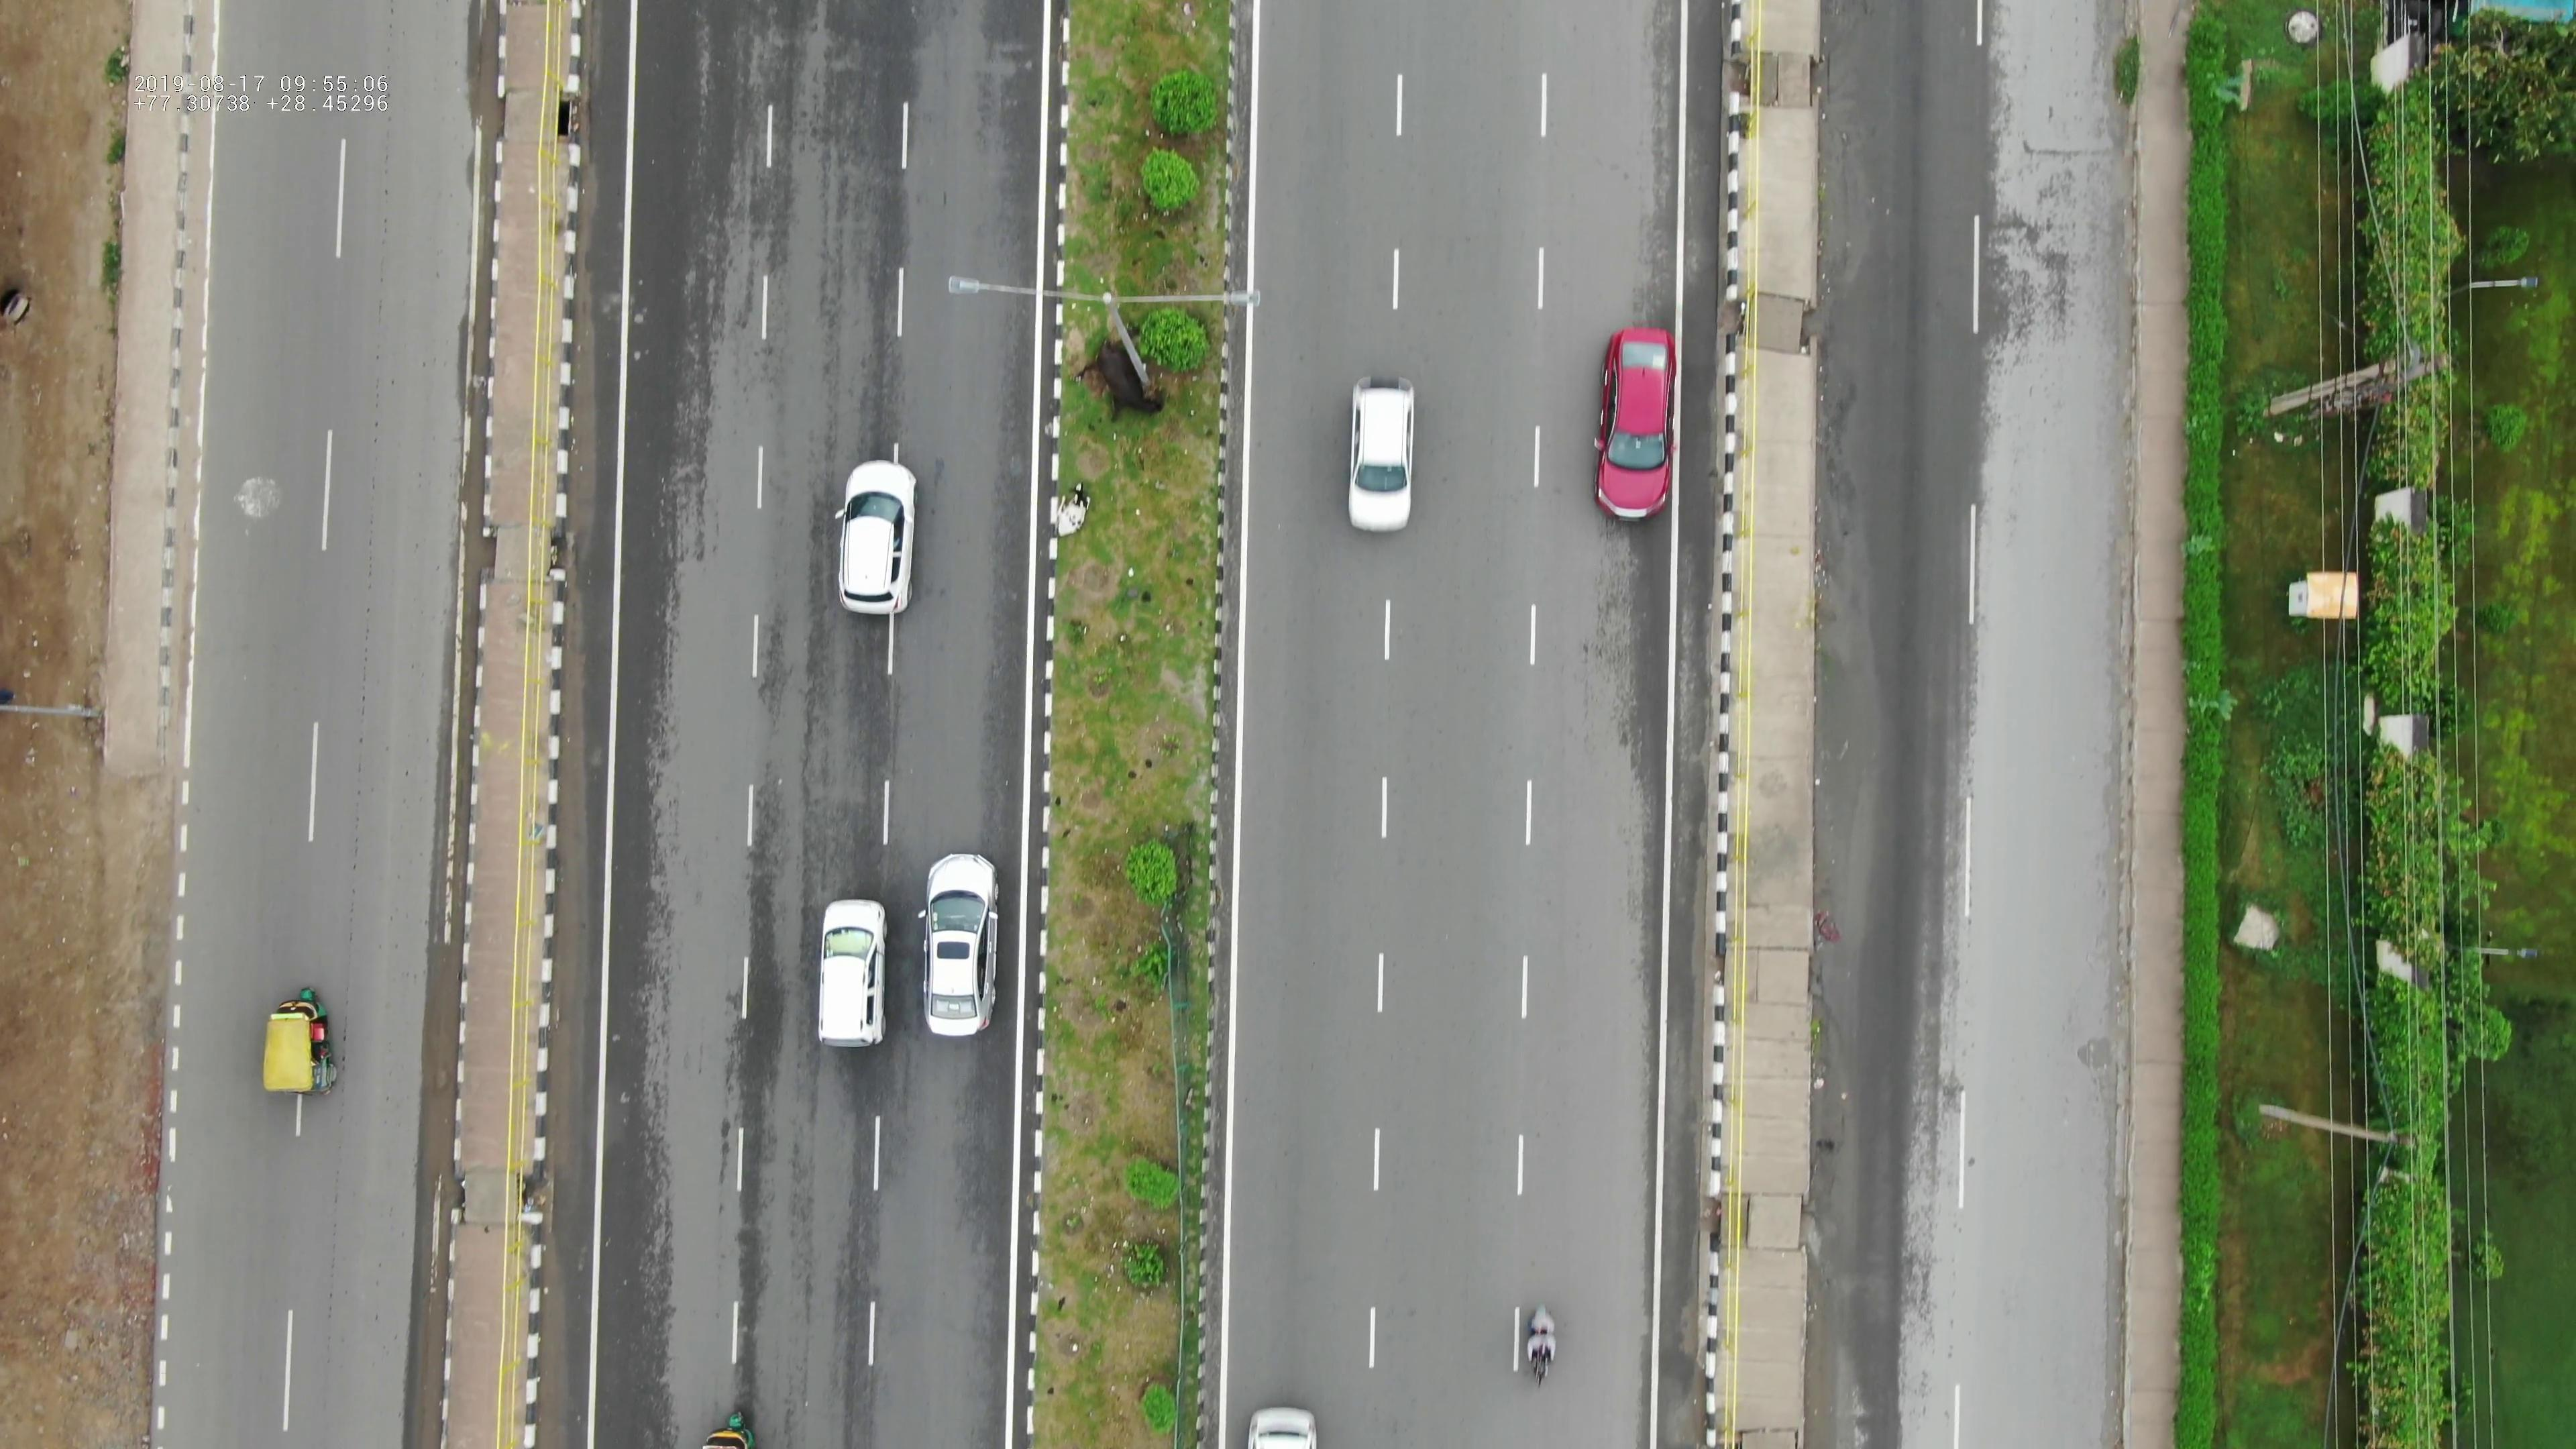Alligator_cracks: (1990, 214, 2075, 364)
